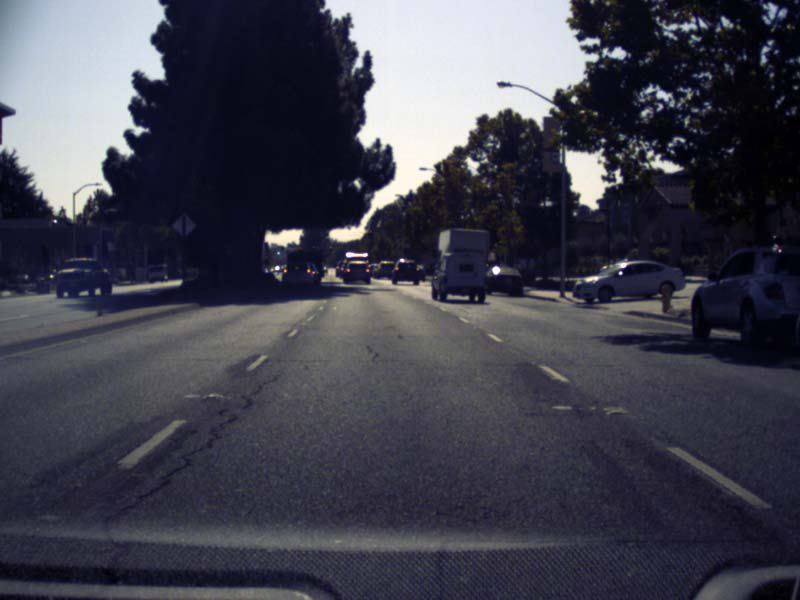Red: (367, 227, 373, 239), (263, 254, 269, 265)
Yellow: (327, 245, 333, 251), (310, 244, 316, 250), (298, 244, 302, 250)
